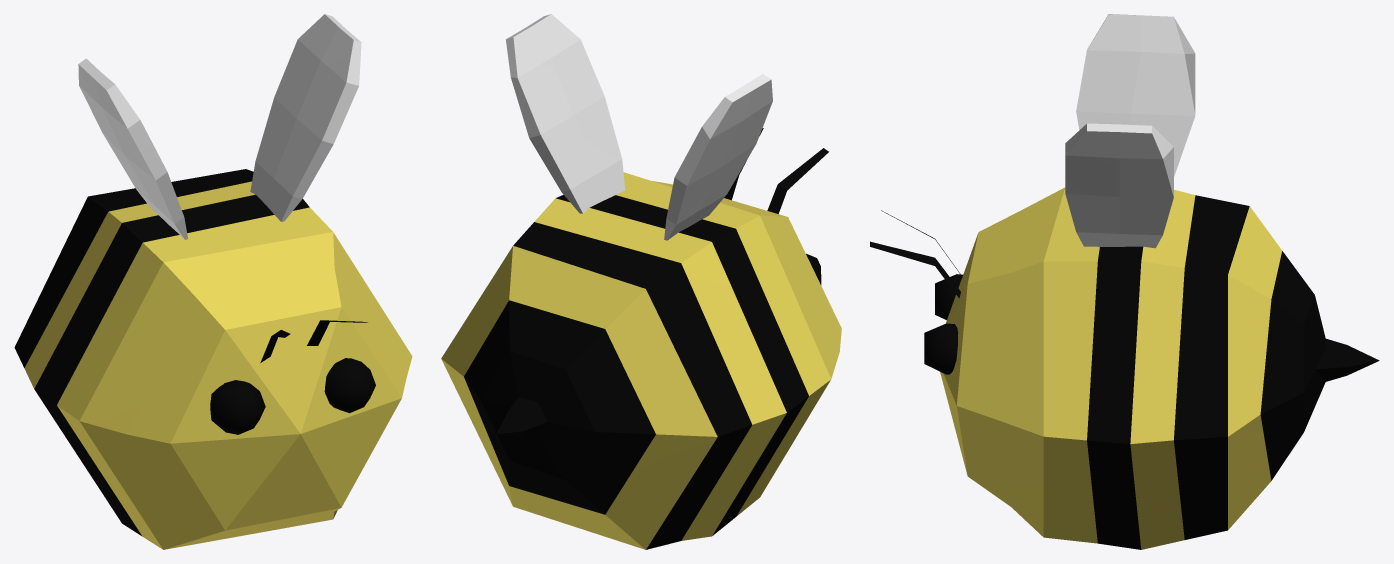
File: beemodle.glb
3 views of the same model, side by side, from view 1: azimuth 30°, elevation 25°; view 2: azimuth 150°, elevation 25°; view 3: azimuth 270°, elevation 25° (orthographic). The views are drawn at different scales.
Parts seen in each view (by area): view 1: bee2; view 2: bee2; view 3: bee2.
Boxes of the visible parts, left/top/right/bottom form: bee2: left=14, top=14, right=412, bottom=549; bee2: left=441, top=14, right=841, bottom=549; bee2: left=870, top=14, right=1379, bottom=549.
Size of the model in its own units: 0.337 by 0.4519 by 0.47.
